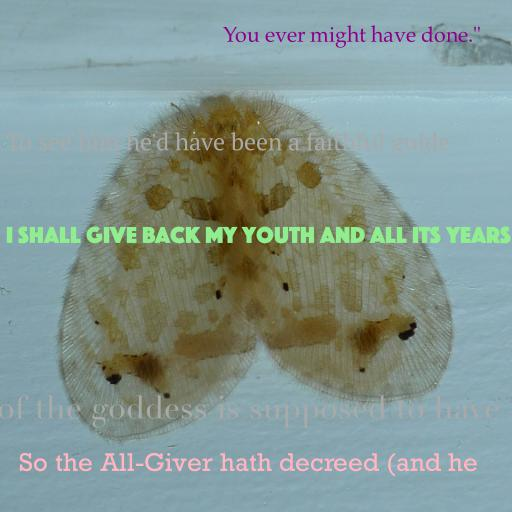Didot: (0, 395, 512, 428)
PT Serif: (6, 132, 450, 156)
Palatino: (223, 25, 481, 48)
Phosphate: (5, 226, 511, 244)
Rockwell: (18, 452, 478, 477)
